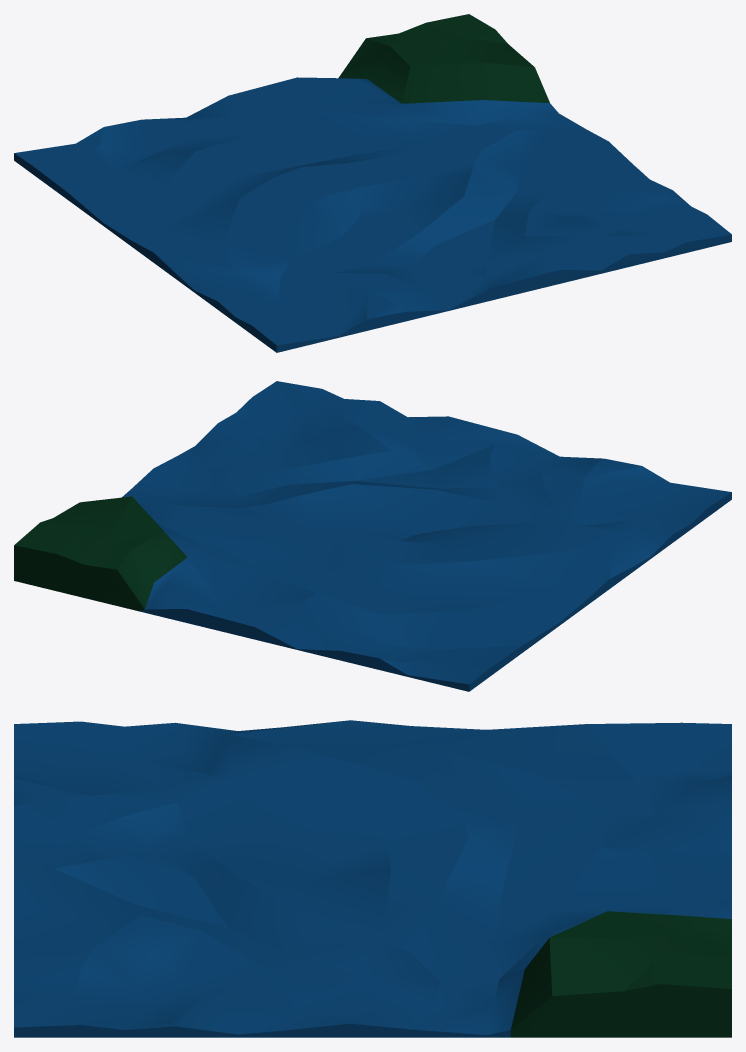
The model's file is Water_Corner_External_RU.fbx.
The picture shows the model from 3 angles, top to bottom: view 1: azimuth 30°, elevation 25°; view 2: azimuth 150°, elevation 25°; view 3: azimuth 270°, elevation 25°; orthographic projection. The views are drawn at different scales.
Visible parts, largest first — view 1: Water_Corner_External_RU; view 2: Water_Corner_External_RU; view 3: Water_Corner_External_RU.
Part boxes in pixels (left/top/right/bottom): Water_Corner_External_RU: left=14, top=14, right=731, bottom=352; Water_Corner_External_RU: left=14, top=381, right=731, bottom=691; Water_Corner_External_RU: left=14, top=720, right=731, bottom=1037.
Size of the model in its own units: 147 by 15.12 by 147.
